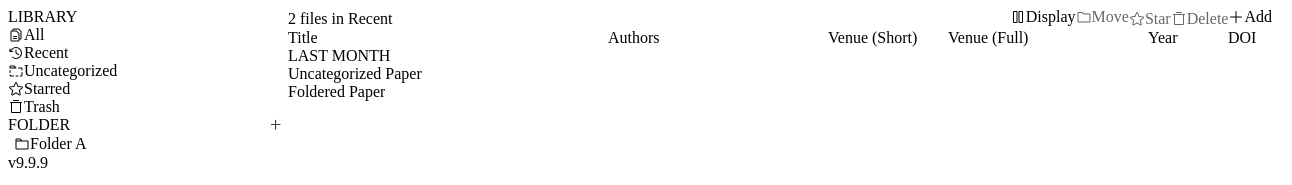
Scenario: Folder filter + move (Story 7.2) › All shows every non-trashed paper regardless of folder
The width and height of the screenshot is (1292, 185).
Check: the text "Uncategorized Paper" is shown, box [288,65,422,83]
Click the button "Folder A": coordinates (58, 144) [8,134,288,154]
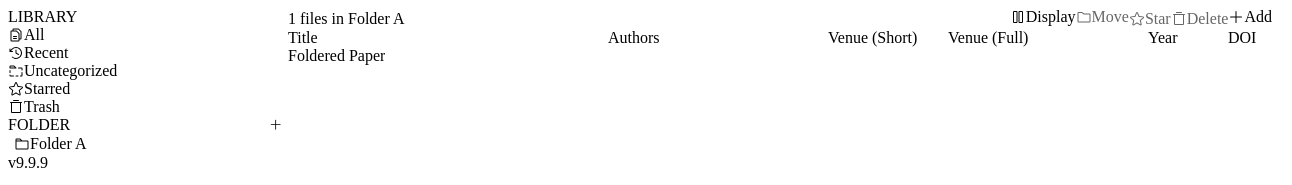
Click the button "All": coordinates (16, 35) [8,26,288,44]
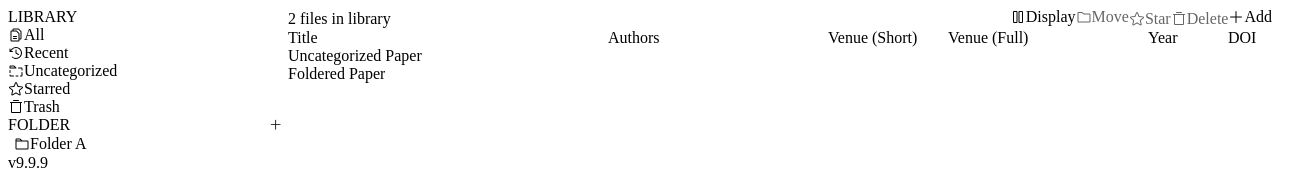
Check: the text "Foldered Paper" is shown, box [288,65,385,83]
Check: the text "Uncategorized Paper" is shown, box [288,47,422,65]
